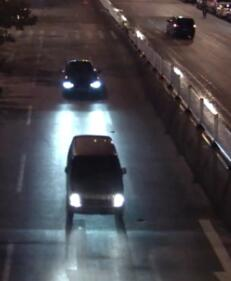car: (61, 130, 129, 225), (57, 54, 106, 99), (164, 14, 197, 41)
